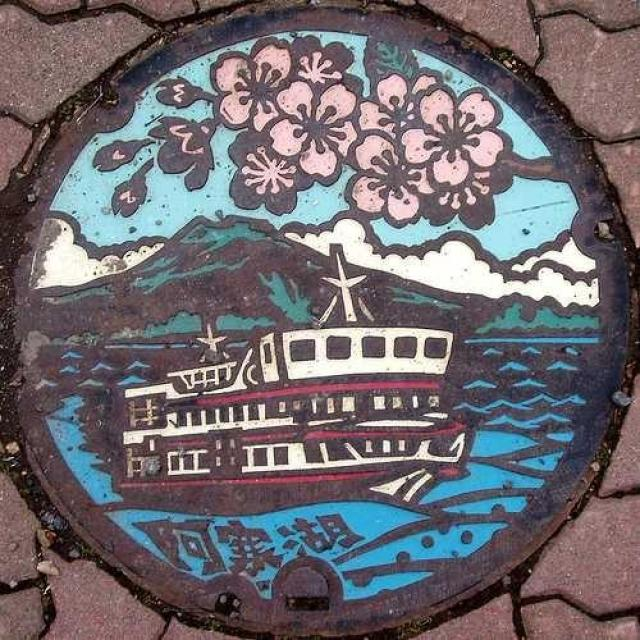manhole: (15, 7, 630, 633)
